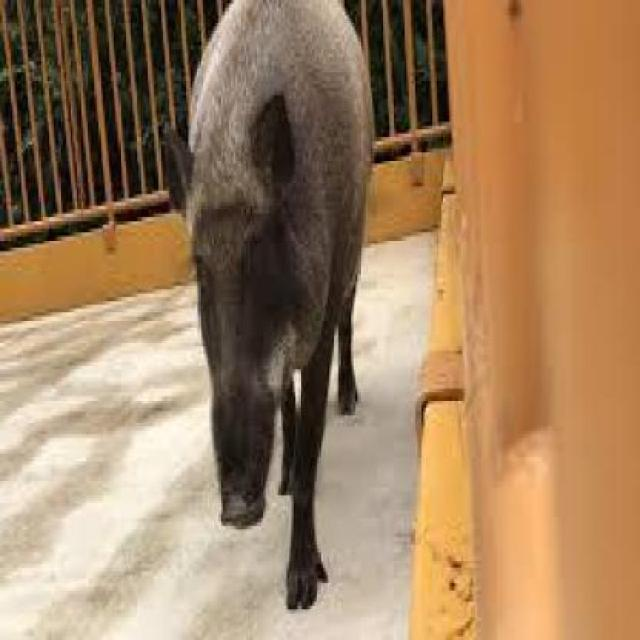wildboar: (152, 0, 380, 622)
